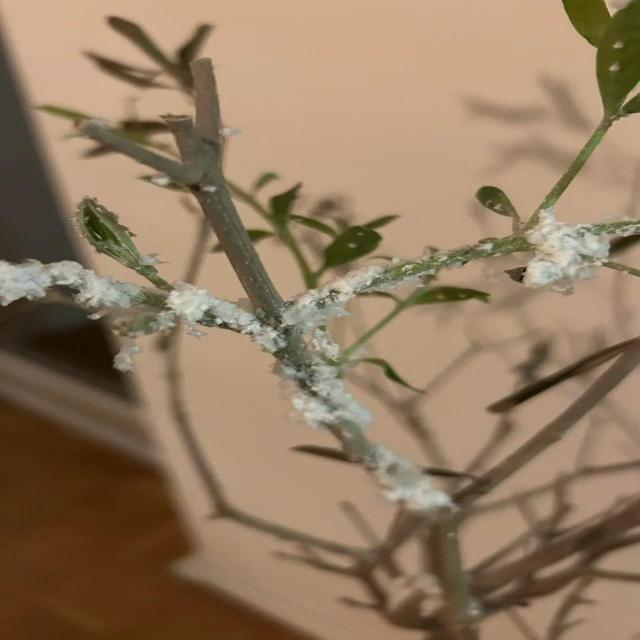Psyllid: (282, 208, 639, 334), (274, 359, 459, 522), (0, 258, 156, 318), (161, 282, 285, 354)
